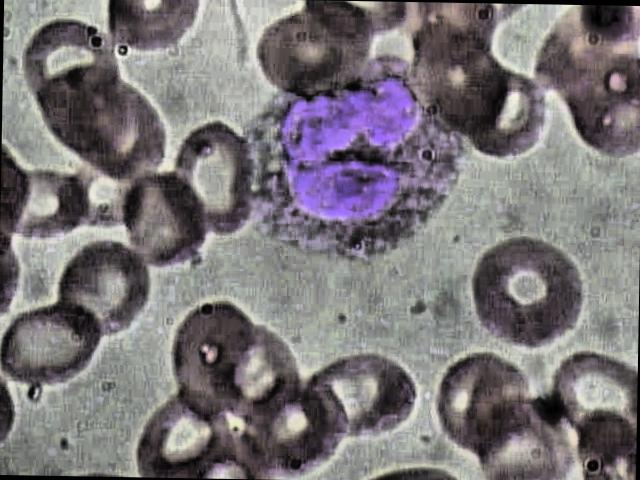RBC: (453, 223, 596, 352), (293, 348, 422, 442), (0, 299, 109, 391), (56, 240, 154, 342), (115, 172, 212, 274)
WBC: (216, 35, 474, 268)
